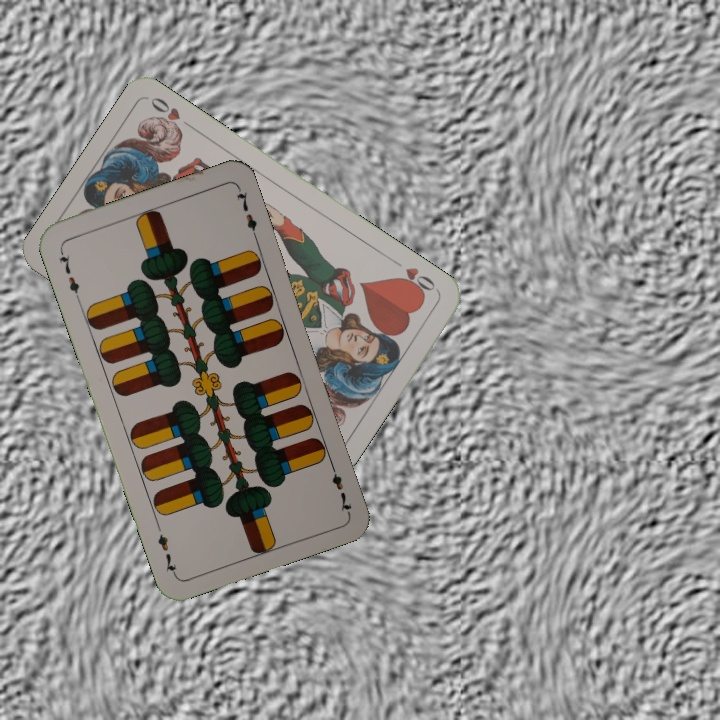E7: (55, 245, 83, 303), (326, 458, 354, 515)
HO: (392, 263, 438, 299)
